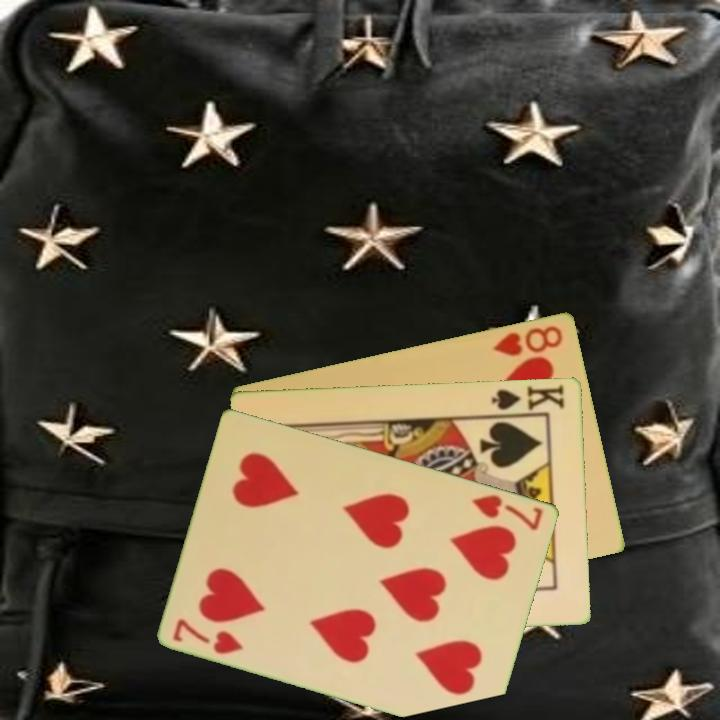7h: (169, 614, 247, 657), (469, 490, 546, 533)
8h: (489, 321, 566, 359)
Ks: (489, 380, 568, 413)
